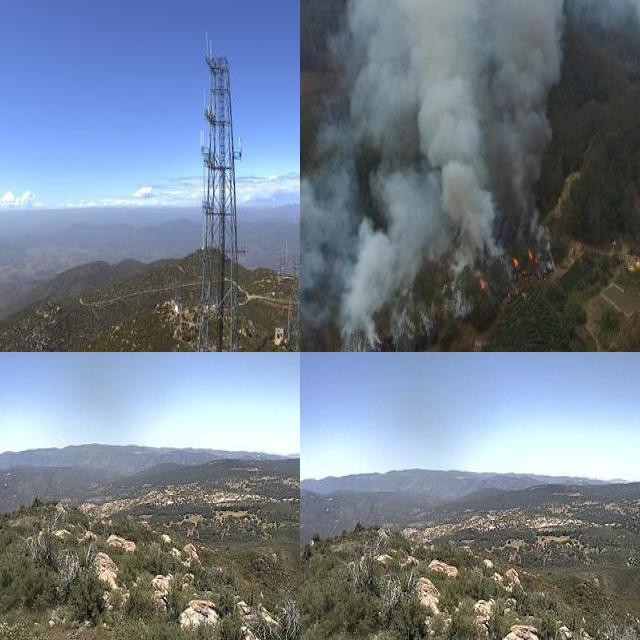fire: (440, 180, 564, 337)
smoke: (300, 0, 569, 325)
